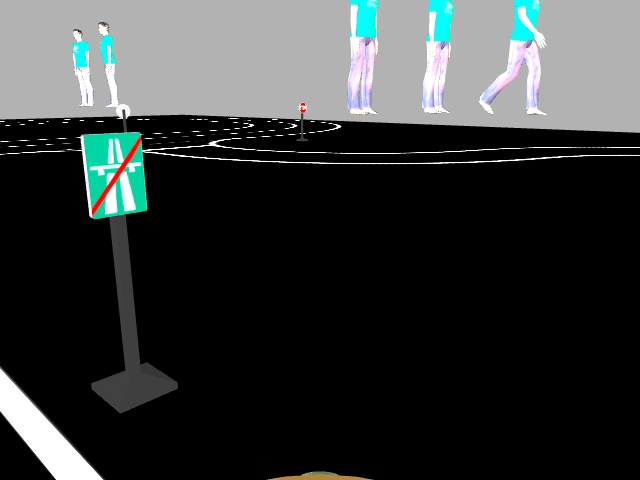HighwayExit: (84, 130, 145, 217)
